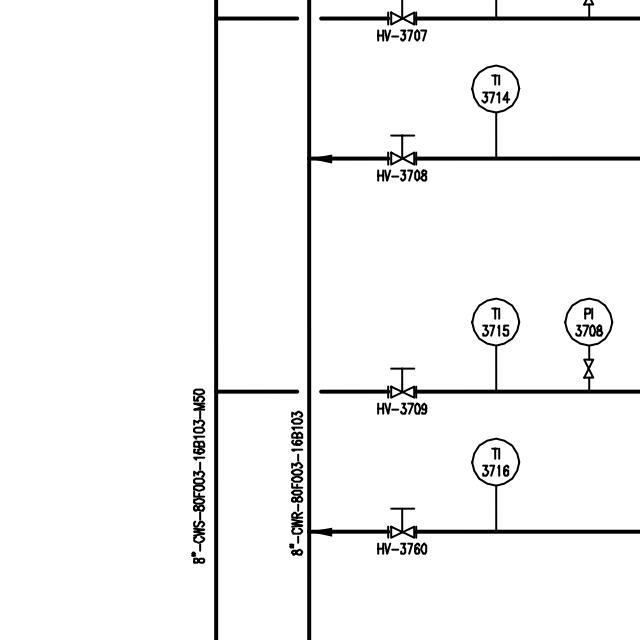GV: (578, 352, 597, 381)
HVWT: (385, 362, 420, 402), (386, 128, 421, 167), (383, 501, 418, 540)
